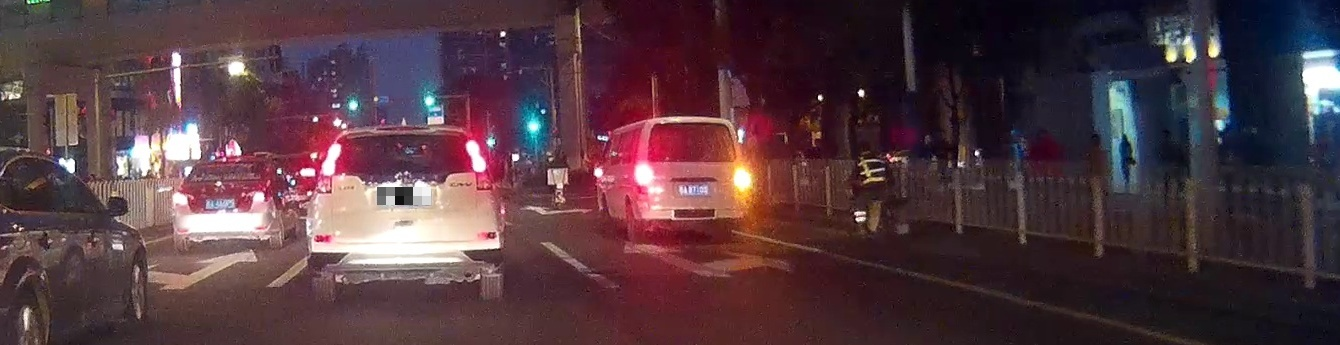L_light: (315, 142, 342, 195), (634, 162, 654, 195), (171, 191, 196, 206)
R_light: (465, 140, 493, 191), (733, 166, 750, 195), (241, 189, 267, 205)
T_light: (375, 125, 431, 131), (684, 122, 705, 126), (219, 163, 237, 167)
night-no: (305, 124, 504, 302), (172, 156, 268, 254)
night-right: (633, 116, 751, 246)
plate_1: (377, 187, 431, 205)
